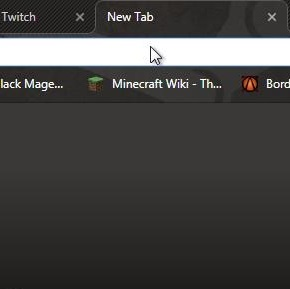cursor: (148, 44, 164, 67)
